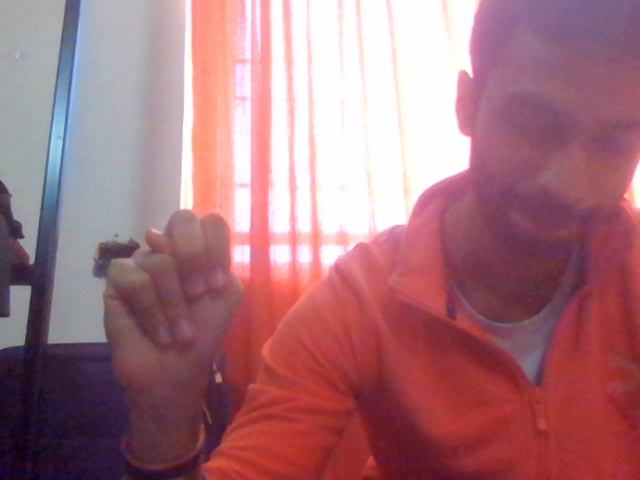N: (76, 182, 251, 443)
